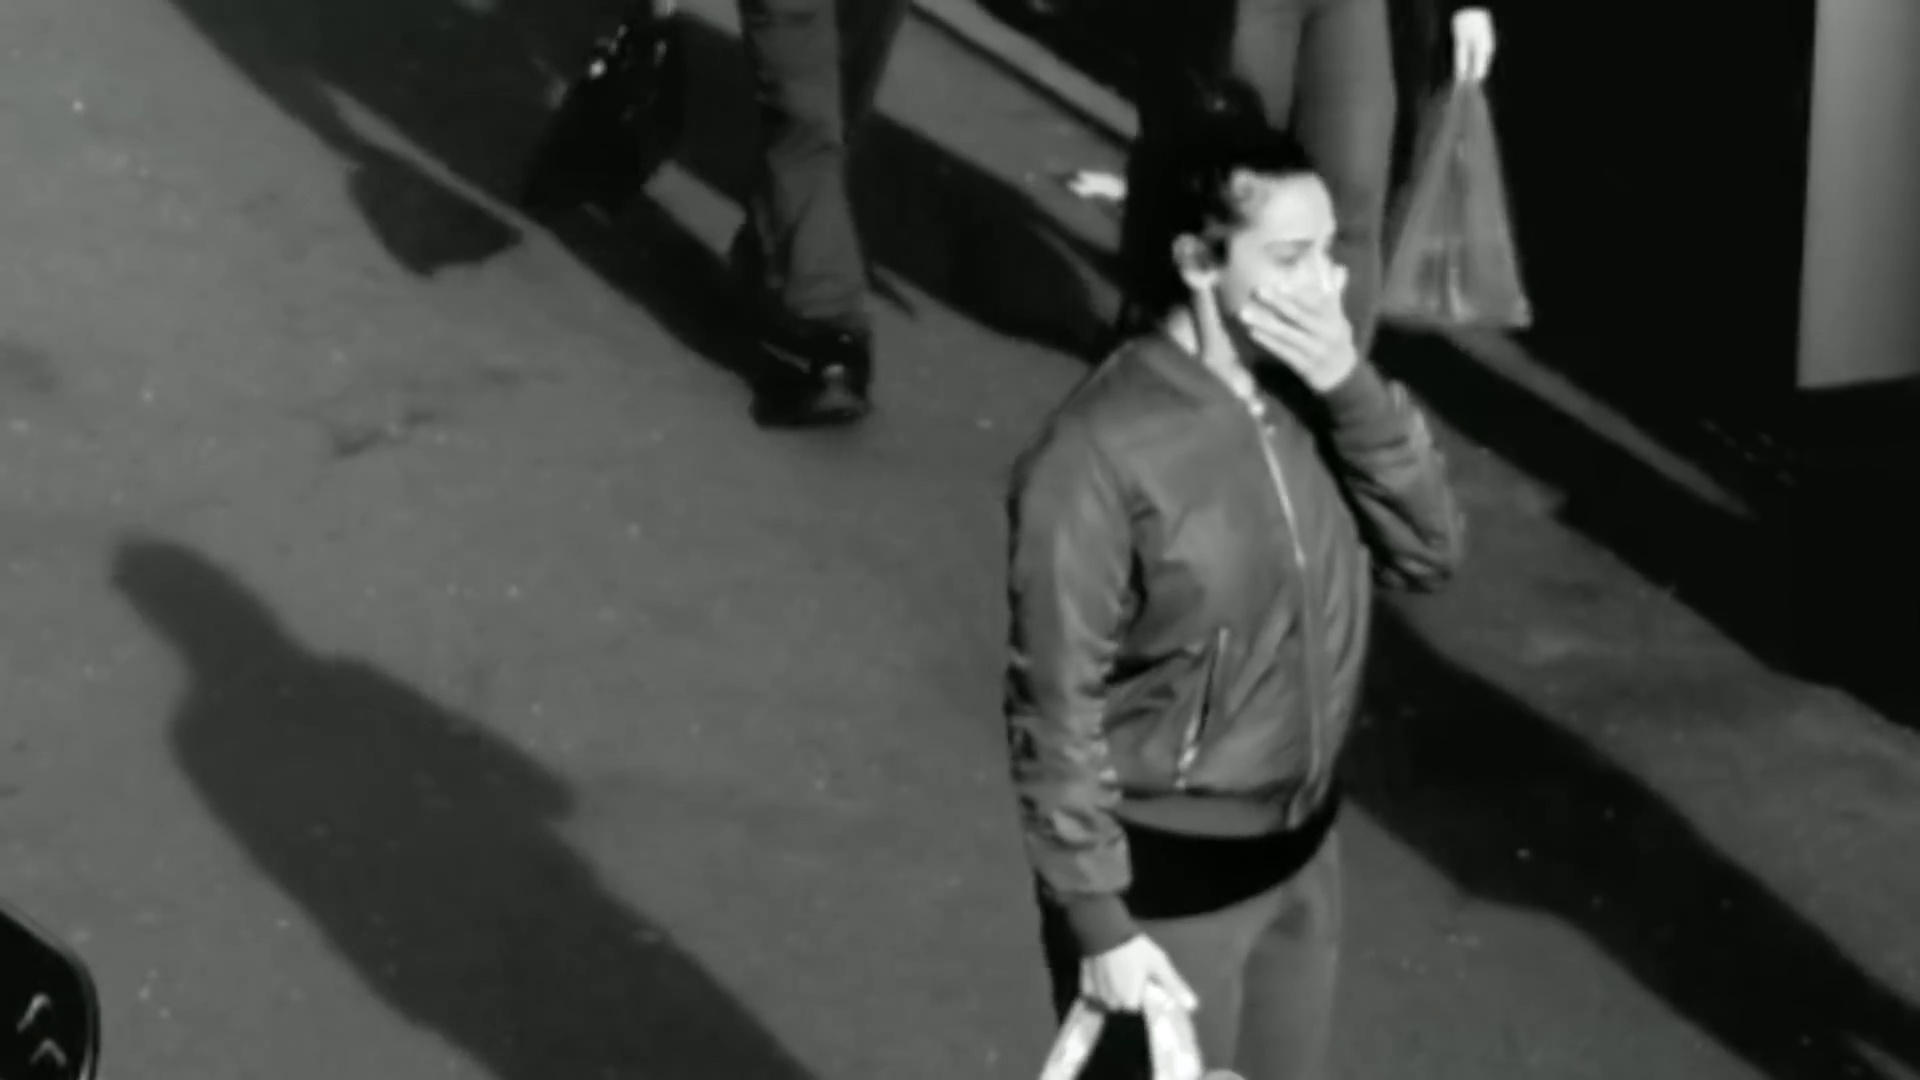face: (1213, 175, 1351, 364)
